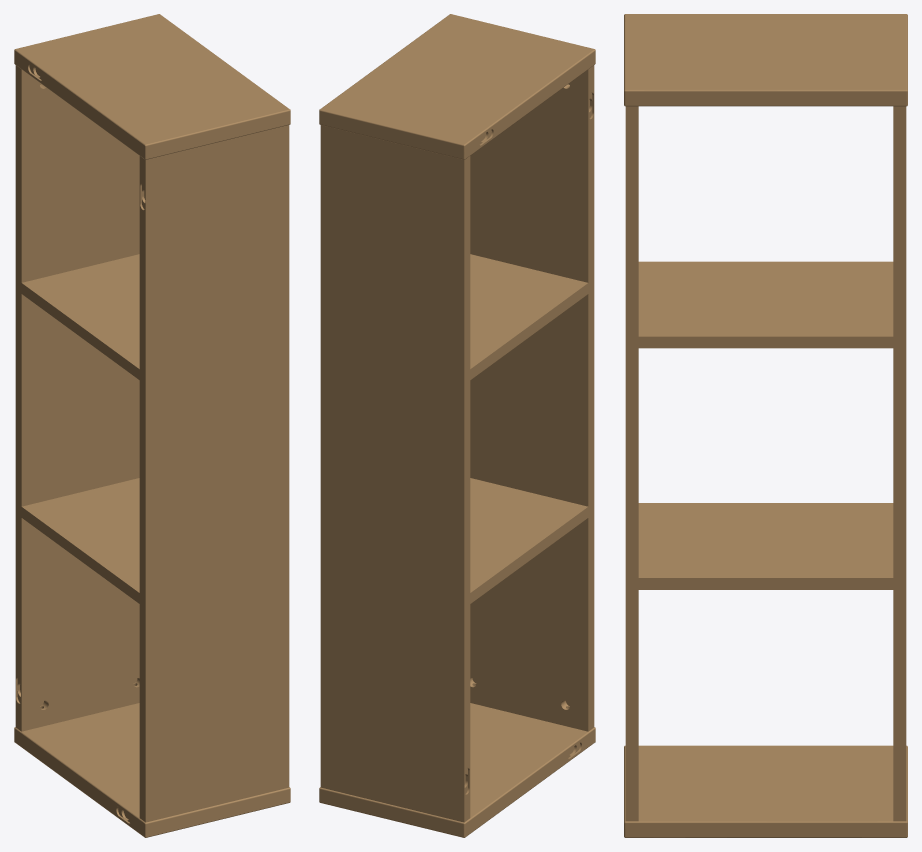
The model's file is bookcase 3.obj.
The picture shows the model from 3 angles, left to right: view 1: azimuth 30°, elevation 25°; view 2: azimuth 150°, elevation 25°; view 3: azimuth 270°, elevation 25°; orthographic projection. The views are drawn at different scales.
Parts seen in each view (by area): view 1: obj6416, obj3205, obj4475, obj4076, obj873, obj1574, obj6412, obj3202, obj1260, obj4773, obj1561, obj4761 (+2 smaller); view 2: obj3206, obj6415, obj4475, obj4076, obj873, obj1574, obj3202, obj6412, obj1573, obj4463, obj1561, obj4761 (+2 smaller); view 3: obj4475, obj1574, obj4076, obj873, obj3204, obj6414, obj4474, obj1273, obj4071, obj868.
Part boxes in pixels (x1,y1,x2,y2): obj6416: (145,125,289,822); obj3205: (21,70,139,731); obj4475: (16,14,288,144); obj4076: (22,254,139,368); obj873: (22,478,139,592); obj1574: (22,703,139,817); obj6412: (139,156,145,822); obj3202: (15,65,21,731); obj1260: (146,789,289,836); obj4773: (146,111,289,158); obj1561: (14,729,144,836); obj4761: (14,51,144,158); obj3206: (320,125,464,822); obj6415: (470,70,588,731); obj4475: (321,14,593,144); obj4076: (470,254,587,368); obj873: (470,478,587,592); obj1574: (470,703,587,817); obj3202: (464,156,470,822); obj6412: (588,65,594,731); obj1573: (320,789,463,836); obj4463: (320,111,463,158); obj1561: (465,729,595,836); obj4761: (465,51,595,158); obj4475: (625,14,906,89); obj1574: (638,745,893,821); obj4076: (638,261,893,336); obj873: (638,503,893,577); obj3204: (893,106,906,821); obj6414: (625,106,638,821); obj4474: (625,91,906,105); obj1273: (625,823,906,836); obj4071: (638,336,893,348); obj868: (638,578,893,589).
Size of the model in its own units: 9.85 by 44.69 by 15.37.
